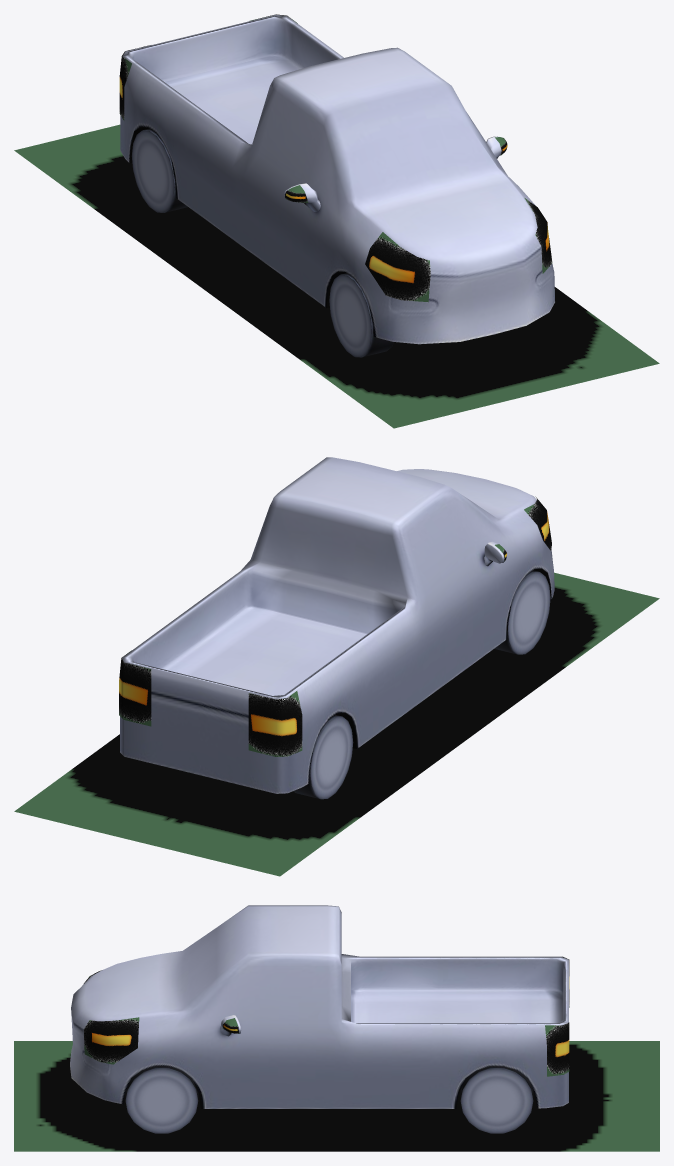
Rendered from Pickup.fbx.
3 renders of one model, top to bottom at view 1: azimuth 30°, elevation 25°; view 2: azimuth 150°, elevation 25°; view 3: azimuth 270°, elevation 25°, orthographic. The views are drawn at different scales.
Parts seen in each view (by area): view 1: CA_Car, CA_Shadow, CA_RF, CA_RDirection, CA_W_RF, CA_WB, CA_LDirection; view 2: CA_Car, CA_Shadow, CA_RF, CA_RDirection, CA_WB, CA_W_RF, CA_LDirection; view 3: CA_Car, CA_Shadow, CA_LF, CA_WB, CA_W_LF, CA_LDirection.
Part boxes in pixels (left/top/right/bottom): CA_Car: left=120, top=14, right=554, bottom=344; CA_Shadow: left=14, top=124, right=659, bottom=428; CA_RF: left=252, top=92, right=335, bottom=265; CA_RDirection: left=119, top=45, right=430, bottom=302; CA_W_RF: left=329, top=273, right=394, bottom=357; CA_WB: left=131, top=128, right=187, bottom=212; CA_LDirection: left=250, top=14, right=552, bottom=273; CA_Car: left=120, top=457, right=554, bottom=793; CA_Shadow: left=14, top=572, right=659, bottom=876; CA_RF: left=407, top=498, right=504, bottom=657; CA_RDirection: left=248, top=496, right=551, bottom=756; CA_WB: left=293, top=715, right=353, bottom=799; CA_W_RF: left=494, top=570, right=550, bottom=654; CA_LDirection: left=119, top=650, right=151, bottom=726; CA_Car: left=70, top=905, right=568, bottom=1108; CA_Shadow: left=14, top=1041, right=659, bottom=1151; CA_LF: left=216, top=966, right=327, bottom=1078; CA_WB: left=460, top=1066, right=533, bottom=1133; CA_W_LF: left=125, top=1066, right=198, bottom=1133; CA_LDirection: left=83, top=1017, right=569, bottom=1076.
Bounding box in the file's own units: 2.6 × 1.85 × 6.43.
Materials: 5 (5 with a texture image).
